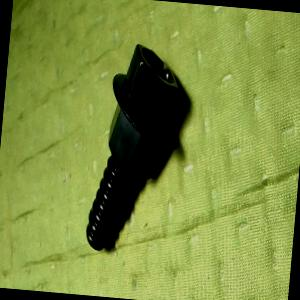parafuso: (83, 38, 182, 258)
